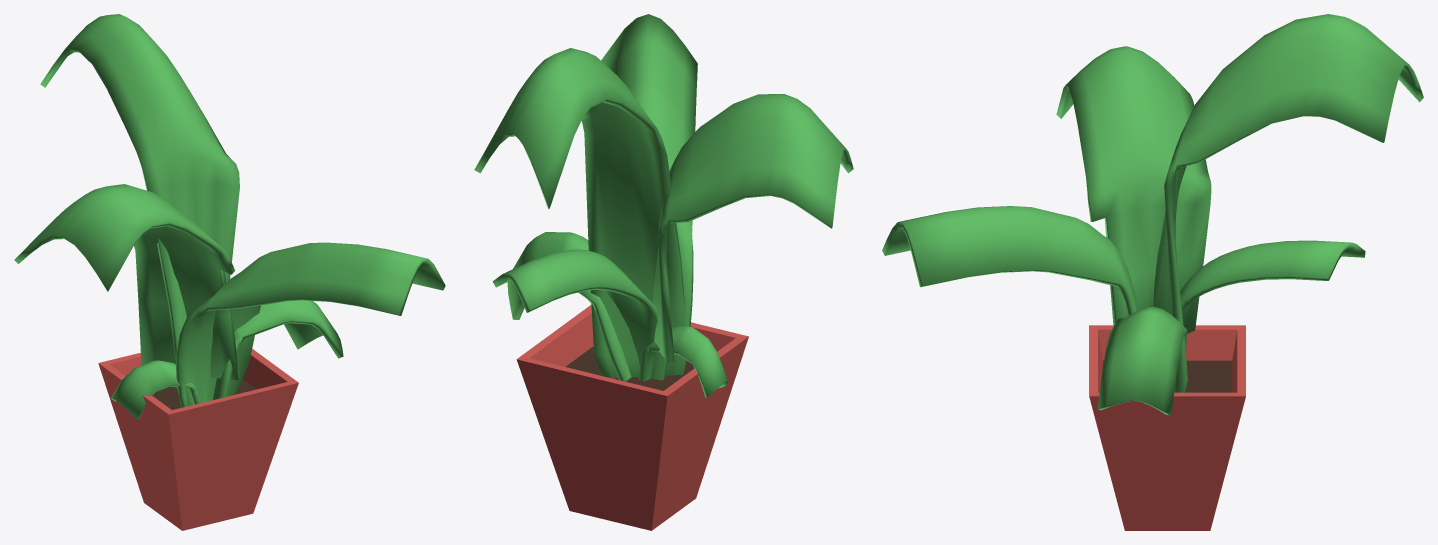
The model's file is plant_2.fbx.
3 renders of one model, left to right at view 1: azimuth 30°, elevation 25°; view 2: azimuth 150°, elevation 25°; view 3: azimuth 270°, elevation 25°, orthographic. The views are drawn at different scales.
Visible parts, largest first — view 1: mesh_PlantSmall; view 2: mesh_PlantSmall; view 3: mesh_PlantSmall.
Part boxes in pixels (left/top/right/bottom): mesh_PlantSmall: left=14, top=14, right=445, bottom=530; mesh_PlantSmall: left=474, top=14, right=853, bottom=530; mesh_PlantSmall: left=882, top=14, right=1423, bottom=530.
Bounding box in the file's own units: 60 × 80 × 80.
